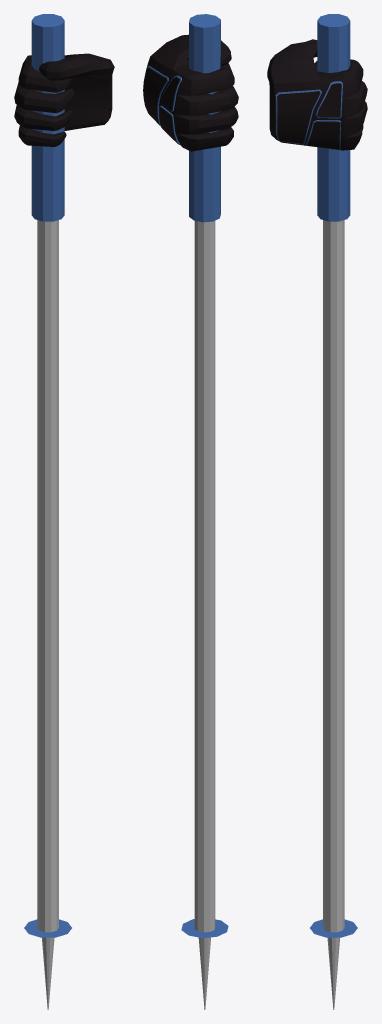
File: Za_Hando2.fbx
3 renders of one model, left to right at view 1: azimuth 90°, elevation 25°; view 2: azimuth 210°, elevation 25°; view 3: azimuth 270°, elevation 25°, orthographic.
Visible parts, largest first — view 1: Stick.003, Cube.002, Stick.002, Spike.001; view 2: Stick.003, Cube.002, Stick.002, Spike.001, Edges.001; view 3: Stick.003, Cube.002, Stick.002, Edges.001, Spike.001.
Part boxes in pixels (left/top/right/bottom): Stick.003: left=37, top=220, right=58, bottom=932; Cube.002: left=14, top=53, right=114, bottom=146; Stick.002: left=24, top=14, right=71, bottom=937; Spike.001: left=42, top=937, right=54, bottom=1009; Stick.003: left=194, top=221, right=215, bottom=932; Cube.002: left=143, top=34, right=238, bottom=151; Stick.002: left=181, top=14, right=228, bottom=937; Spike.001: left=198, top=937, right=210, bottom=1009; Edges.001: left=143, top=66, right=181, bottom=144; Stick.003: left=323, top=220, right=344, bottom=932; Cube.002: left=267, top=39, right=367, bottom=150; Stick.002: left=310, top=14, right=357, bottom=937; Edges.001: left=275, top=81, right=342, bottom=149; Spike.001: left=327, top=937, right=339, bottom=1009.
Bounding box in the file's own units: 484 × 6819 × 628.
